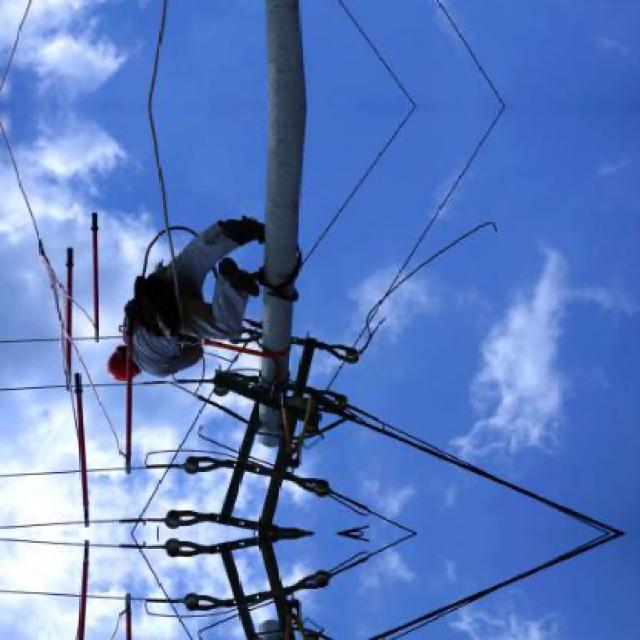con casco: (92, 333, 164, 402)
